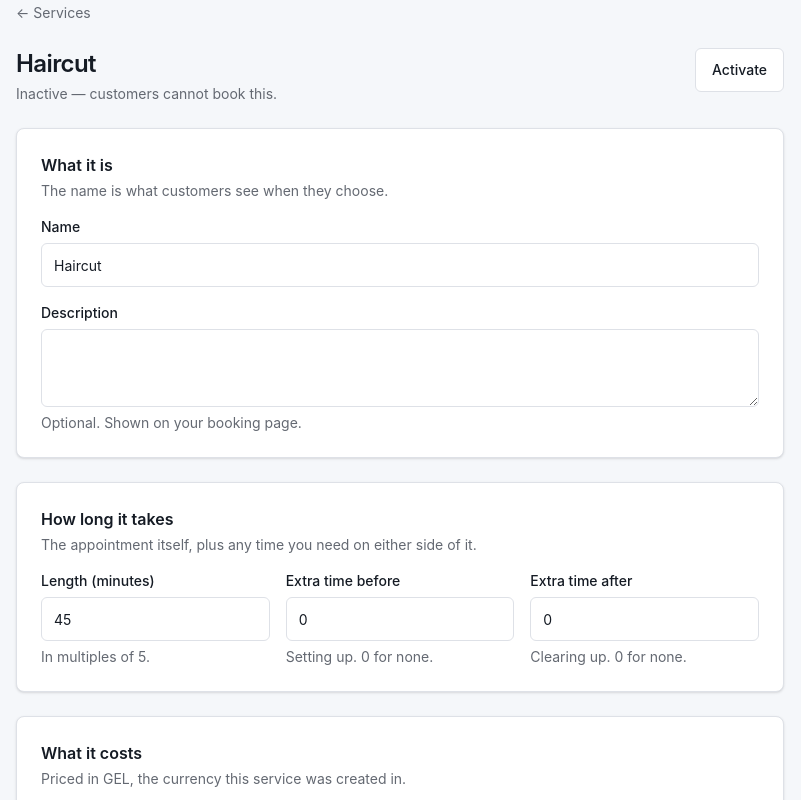
Test: the service detail page, when the toggle is refused › shows the server sentence rather than losing it between page and control
Step 1. Click the button "Activate" → point(740, 70), box [695,48,784,92]
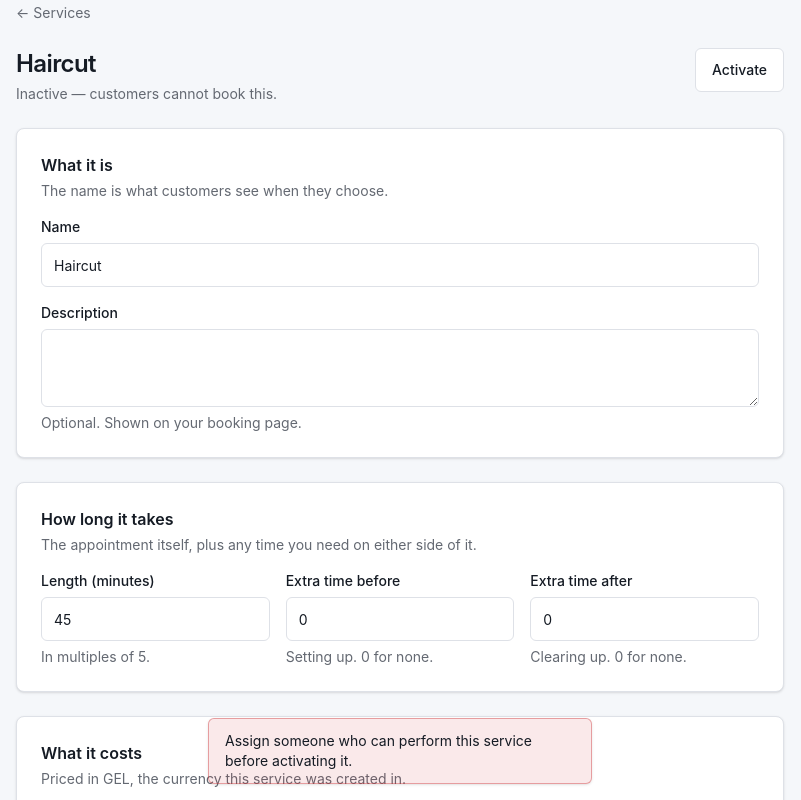
Expected: the text "Assign someone who can perform this service before activating it." is shown, [208,718,592,784]
